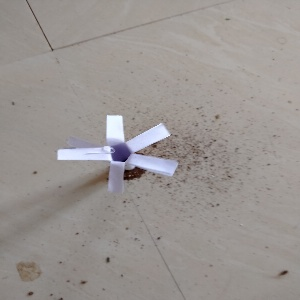weed: (60, 118, 179, 189)
